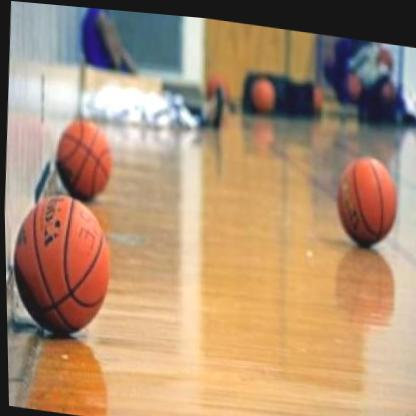basketball: (3, 186, 120, 343), (328, 142, 403, 246), (45, 114, 117, 198), (200, 64, 234, 102), (246, 69, 277, 106), (306, 78, 326, 102)
